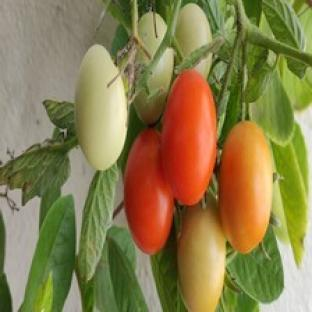Tomato: (162, 70, 217, 204), (219, 122, 272, 253), (124, 129, 174, 254), (76, 45, 126, 169), (177, 198, 225, 311), (134, 49, 174, 123), (176, 3, 211, 57)
